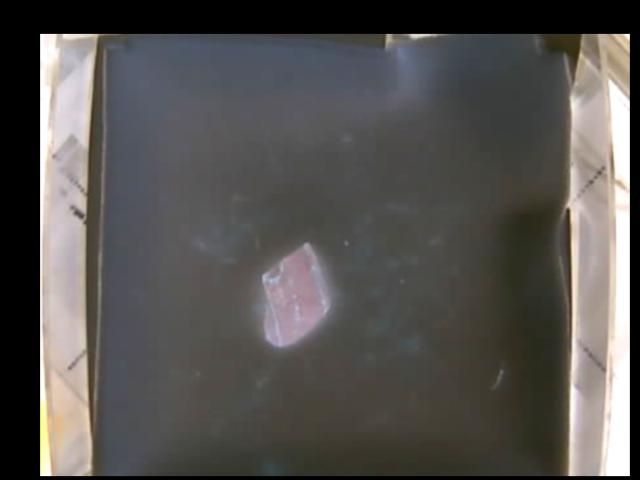China: (255, 243, 329, 348)
